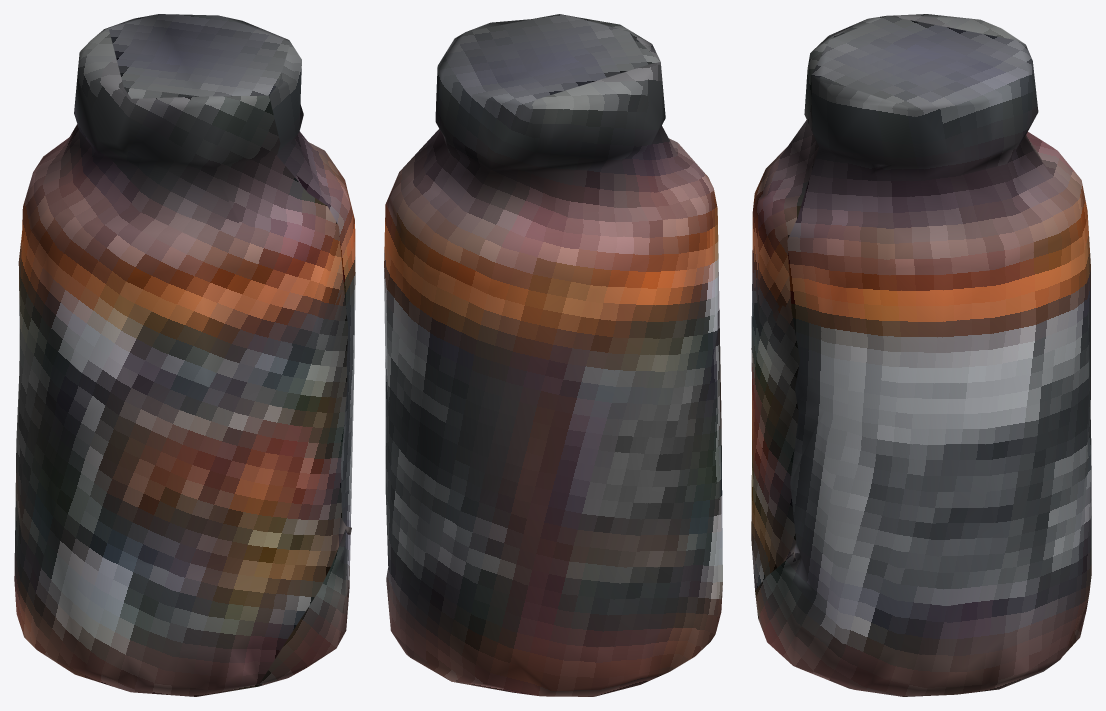
Rendered from Twinlab_Premium_Creatine_Fuel_Powder-low.glb.
3 renders of one model, left to right at view 1: azimuth 30°, elevation 25°; view 2: azimuth 150°, elevation 25°; view 3: azimuth 270°, elevation 25°, orthographic.
Visible parts, largest first — view 1: Twinlab_Premium_Creatine_Fuel_Powder; view 2: Twinlab_Premium_Creatine_Fuel_Powder; view 3: Twinlab_Premium_Creatine_Fuel_Powder.
Part boxes in pixels (x1=…): Twinlab_Premium_Creatine_Fuel_Powder: x1=14, y1=14, x2=355, y2=696; Twinlab_Premium_Creatine_Fuel_Powder: x1=384, y1=14, x2=722, y2=696; Twinlab_Premium_Creatine_Fuel_Powder: x1=751, y1=14, x2=1091, y2=696.
Size of the model in its own units: 0.0595 by 0.113 by 0.0595.
Materials: 1 (1 with a texture image).
